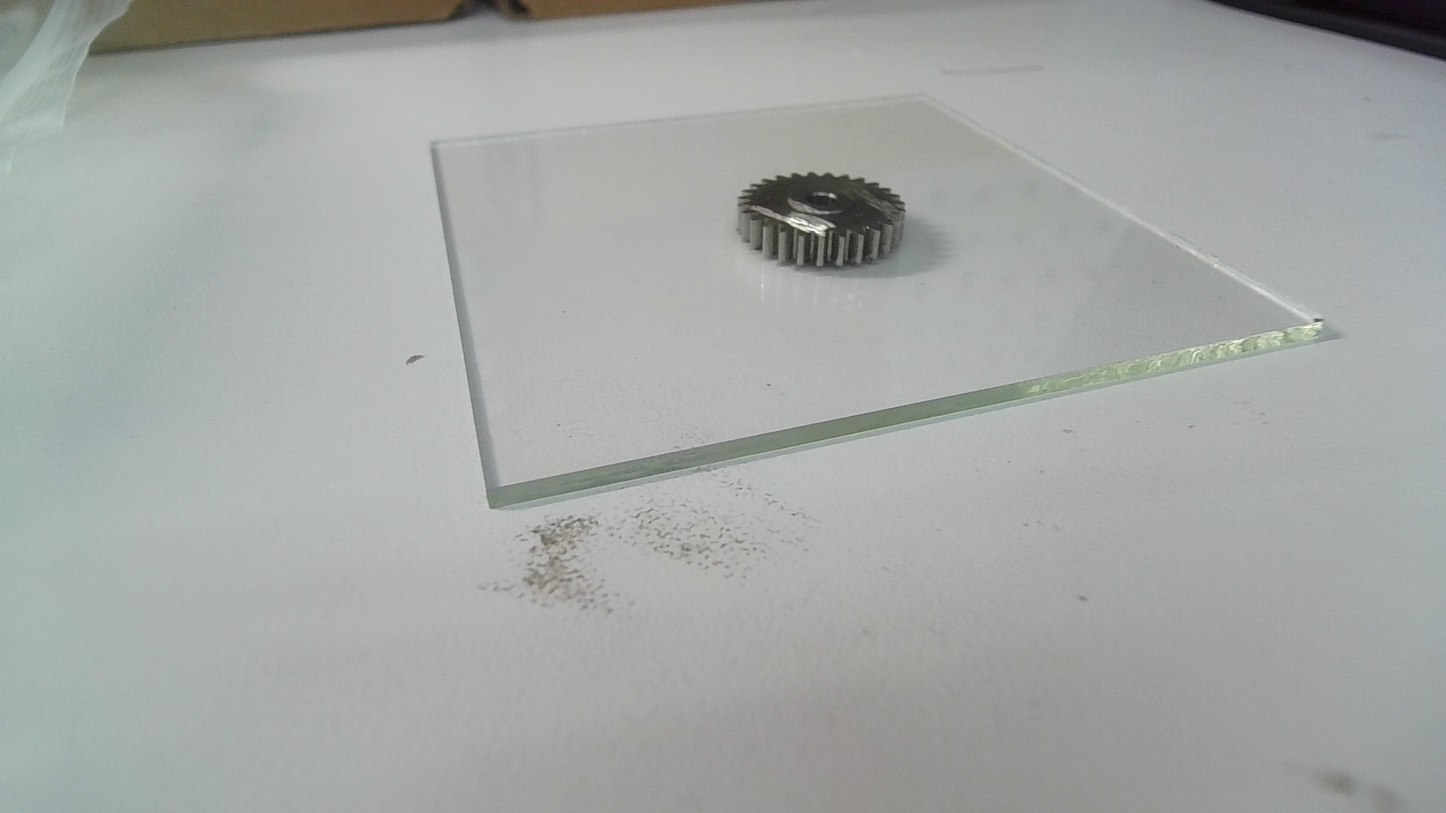gear: (730, 167, 911, 273)
